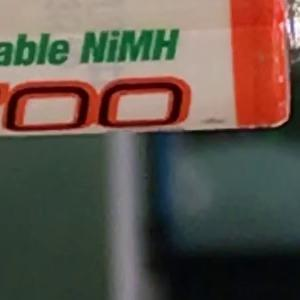NIMH: (70, 19, 189, 73)
